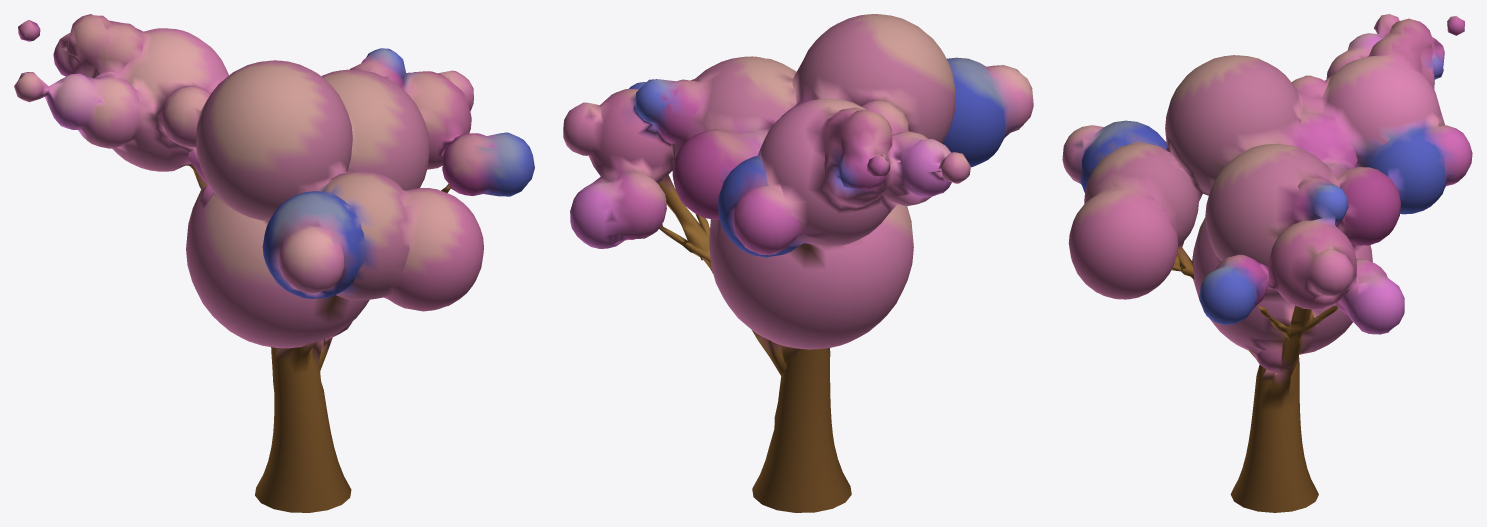
Rendered from canopy-tree-233-lod1.obj.
3 renders of one model, left to right at view 1: azimuth 30°, elevation 25°; view 2: azimuth 150°, elevation 25°; view 3: azimuth 270°, elevation 25°, orthographic. The views are drawn at different scales.
Visible parts, largest first — view 1: simplified; view 2: simplified; view 3: simplified.
Part boxes in pixels (left/top/right/bottom): simplified: left=14, top=14, right=534, bottom=512; simplified: left=563, top=14, right=1033, bottom=512; simplified: left=1062, top=14, right=1472, bottom=512.
Size of the model in its own units: 484 by 496 by 446.
